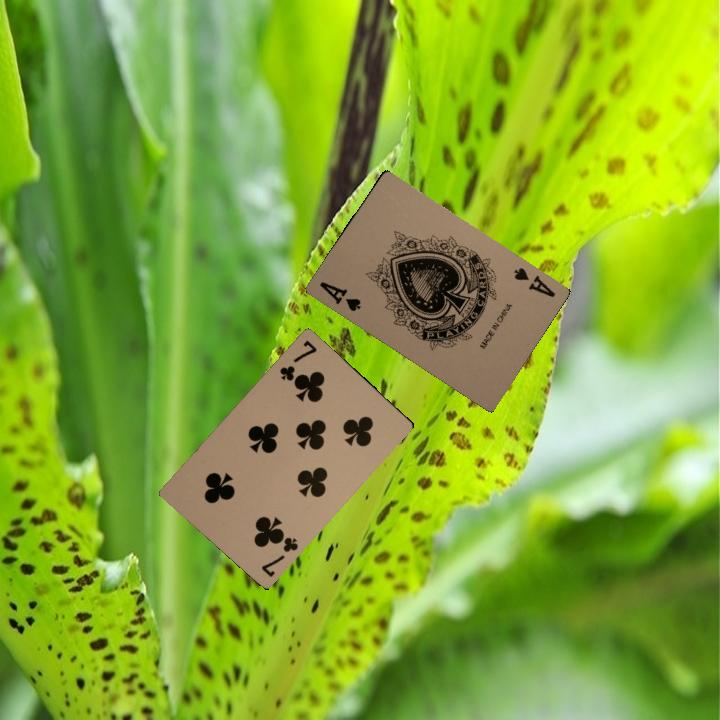7c: (257, 529, 301, 580), (276, 336, 320, 384)
As: (315, 277, 363, 314), (510, 263, 558, 300)
